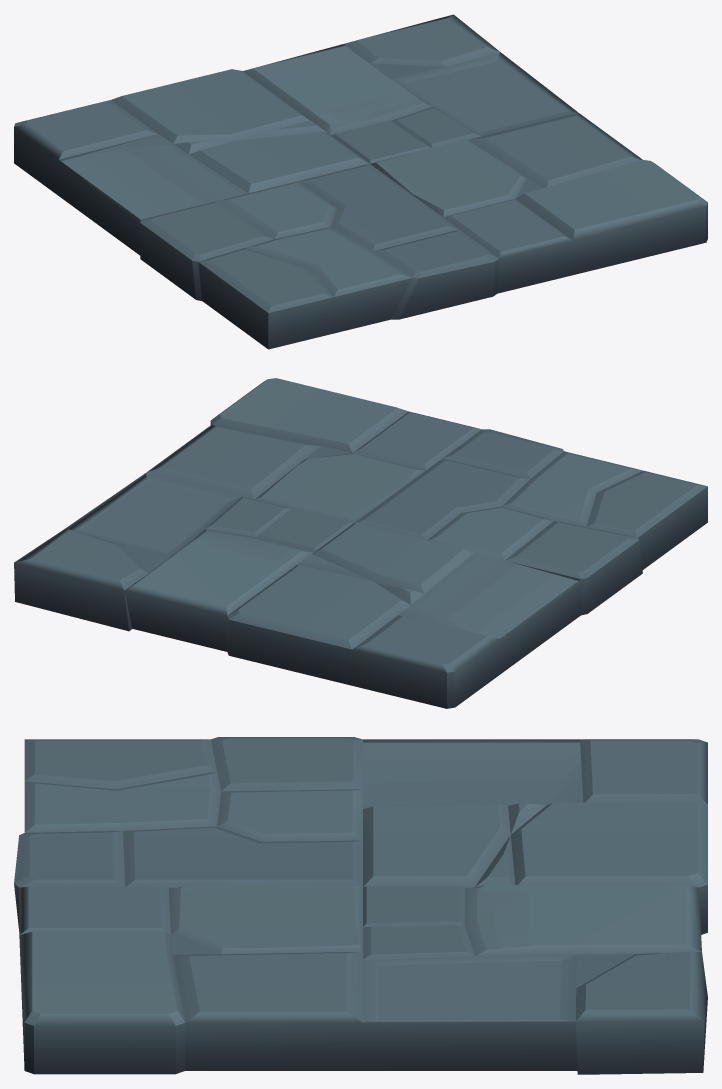
The model's file is Modular_Dungeon_Tile_Irregular_Full.fbx.
The picture shows the model from 3 angles, top to bottom: view 1: azimuth 30°, elevation 25°; view 2: azimuth 150°, elevation 25°; view 3: azimuth 270°, elevation 25°; orthographic projection. The views are drawn at different scales.
Visible parts, largest first — view 1: Tile_Irregular_Full; view 2: Tile_Irregular_Full; view 3: Tile_Irregular_Full.
Boxes of the visible parts, <box> form: Tile_Irregular_Full: <box>14,14,707,349</box>; Tile_Irregular_Full: <box>14,378,707,708</box>; Tile_Irregular_Full: <box>14,737,707,1074</box>.
Bounding box in the file's own units: 6.45 × 0.5847 × 6.54.
1 material, 1 textured.
